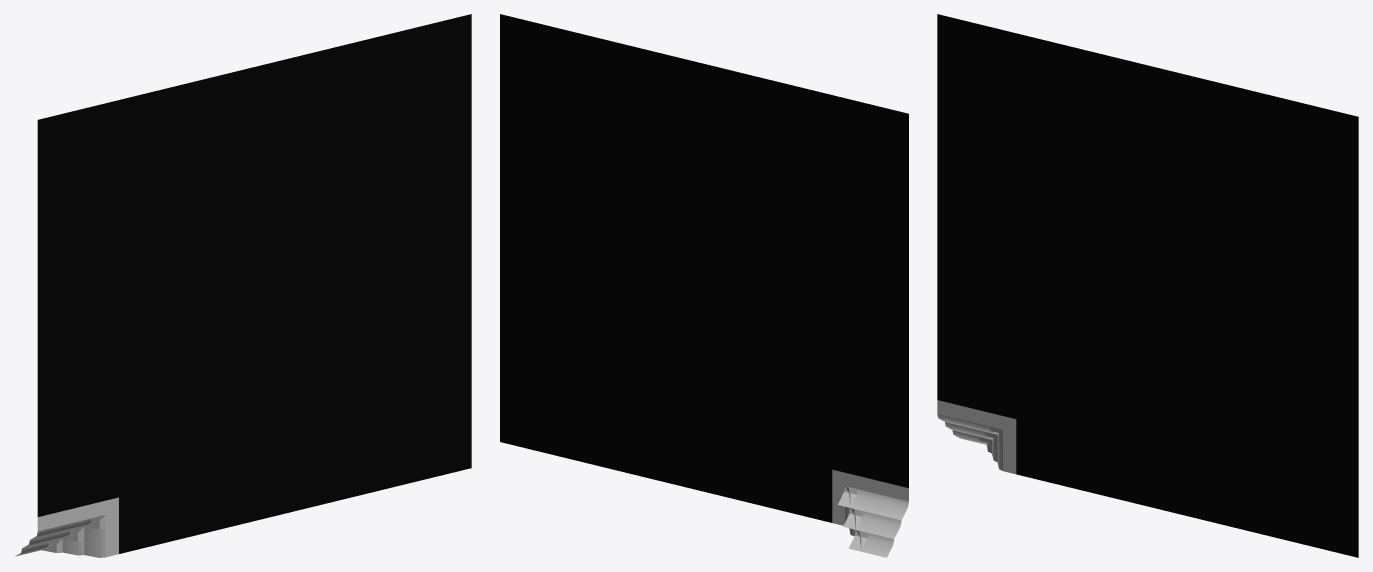
The model's file is Voltic-Cave_03_00.obj.
3 renders of one model, left to right at view 1: azimuth 30°, elevation 25°; view 2: azimuth 150°, elevation 25°; view 3: azimuth 330°, elevation 25°, orthographic. The views are drawn at different scales.
Parts seen in each view (by area): view 1: map; view 2: map; view 3: map.
Boxes of the visible parts, x1=… form: map: x1=15, y1=14, x2=471, y2=557; map: x1=500, y1=14, x2=908, y2=557; map: x1=937, y1=14, x2=1358, y2=557.
Size of the model in its own units: 32 by 32 by 3.
